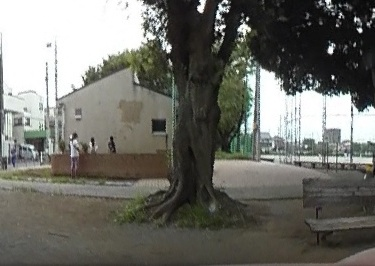person: (67, 129, 83, 177), (9, 137, 17, 165), (106, 135, 117, 152), (88, 137, 98, 154)
